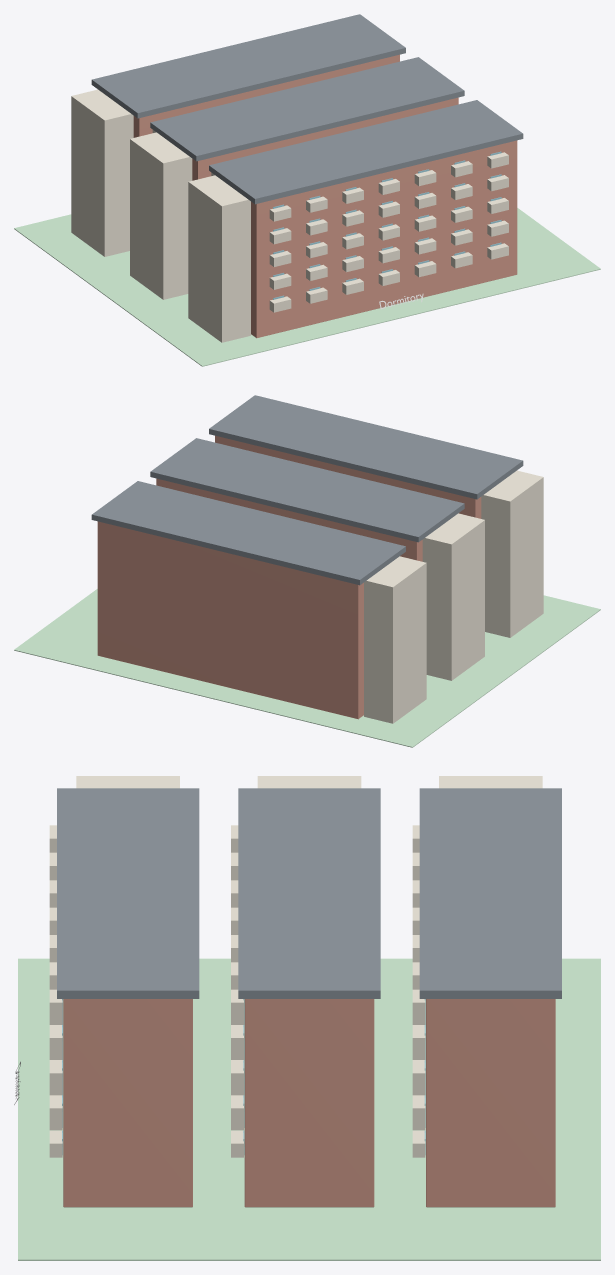
Rendered from dormitory_group.glb.
3 views of the same model, one above another, from view 1: azimuth 30°, elevation 25°; view 2: azimuth 150°, elevation 25°; view 3: azimuth 270°, elevation 25° (orthographic). The views are drawn at different scales.
Visible parts, largest first — view 1: dormitory_block_0, dormitorygroup.001_base_tile, dormitory_roof_1, dormitory_roof_2, dormitory_roof_0, dormitory_stair_core_0, dormitory_stair_core_2, dormitory_stair_core_1, dormitory_block_2, dormitory_block_1; view 2: dormitory_block_2, dormitorygroup.001_base_tile, dormitory_roof_1, dormitory_roof_0, dormitory_roof_2, dormitory_stair_core_2, dormitory_stair_core_0, dormitory_stair_core_1, dormitory_block_0, dormitory_block_1; view 3: dormitorygroup.001_base_tile, dormitory_roof_0, dormitory_roof_1, dormitory_roof_2, dormitory_block_1, dormitory_block_0, dormitory_block_2, dormitory_stair_core_1, dormitory_stair_core_0, dormitory_stair_core_2.
Part boxes in pixels (left/top/right/bottom): dormitory_block_0: left=251, top=140, right=517, bottom=338; dormitorygroup.001_base_tile: left=14, top=208, right=600, bottom=366; dormitory_roof_1: left=150, top=57, right=464, bottom=161; dormitory_roof_2: left=91, top=14, right=405, bottom=118; dormitory_roof_0: left=209, top=100, right=523, bottom=204; dormitory_stair_core_0: left=188, top=175, right=250, bottom=342; dormitory_stair_core_2: left=71, top=89, right=133, bottom=256; dormitory_stair_core_1: left=130, top=132, right=192, bottom=299; dormitory_block_2: left=133, top=54, right=399, bottom=137; dormitory_block_1: left=192, top=97, right=458, bottom=180; dormitory_block_2: left=97, top=521, right=363, bottom=719; dormitorygroup.001_base_tile: left=14, top=589, right=600, bottom=747; dormitory_roof_1: left=150, top=438, right=464, bottom=542; dormitory_roof_0: left=209, top=395, right=523, bottom=499; dormitory_roof_2: left=91, top=481, right=405, bottom=585; dormitory_stair_core_2: left=364, top=556, right=426, bottom=723; dormitory_stair_core_0: left=481, top=470, right=543, bottom=637; dormitory_stair_core_1: left=422, top=513, right=484, bottom=680; dormitory_block_0: left=215, top=435, right=481, bottom=518; dormitory_block_1: left=156, top=478, right=422, bottom=561; dormitorygroup.001_base_tile: left=18, top=958, right=600, bottom=1260; dormitory_roof_0: left=57, top=788, right=199, bottom=998; dormitory_roof_1: left=238, top=788, right=380, bottom=998; dormitory_roof_2: left=419, top=788, right=561, bottom=998; dormitory_block_1: left=244, top=999, right=374, bottom=1207; dormitory_block_0: left=63, top=999, right=192, bottom=1207; dormitory_block_2: left=426, top=999, right=555, bottom=1207; dormitory_stair_core_1: left=257, top=776, right=361, bottom=788; dormitory_stair_core_0: left=76, top=776, right=179, bottom=788; dormitory_stair_core_2: left=439, top=776, right=542, bottom=788.
Bounding box in the file's own units: 55 × 18.81 × 45.31.
